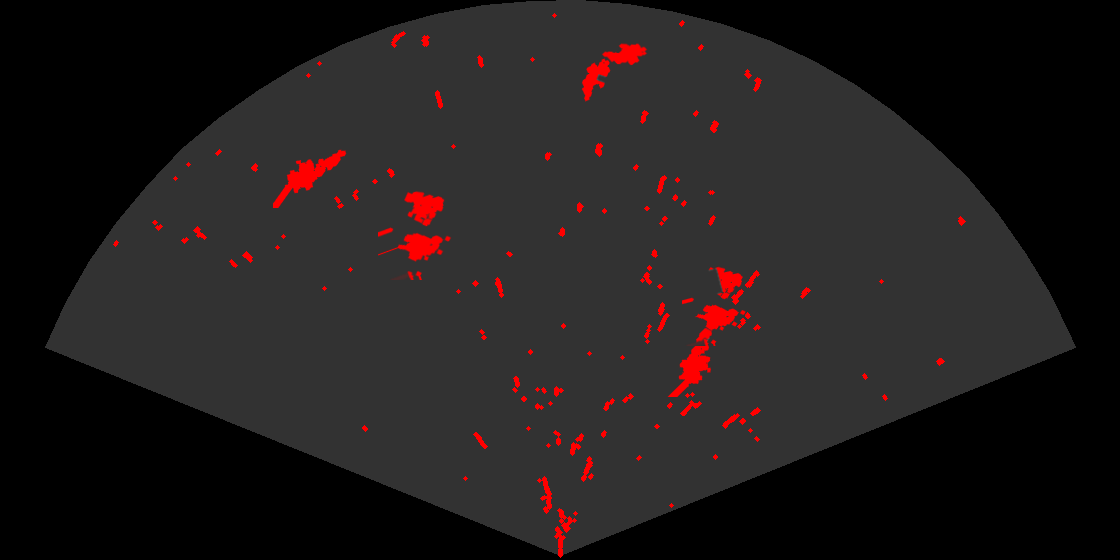AUV: (580, 57, 612, 103), (600, 42, 649, 67)
cage: (378, 190, 453, 280), (682, 265, 747, 346)
frogman: (273, 148, 348, 208), (666, 320, 716, 397)
